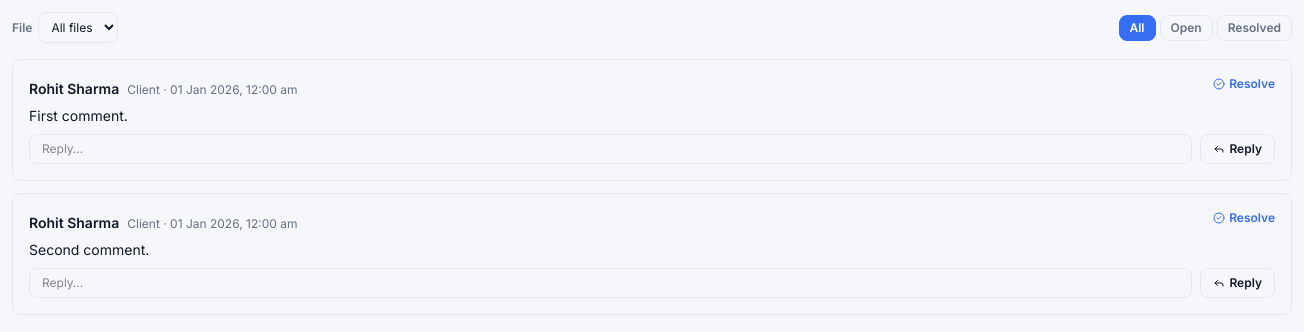
it: CommentsTab resolve › only resolves the targeted comment card when two OPEN cards are present
Click the 1st button "Resolve" at (1244, 84), box [1213,76,1275,92]
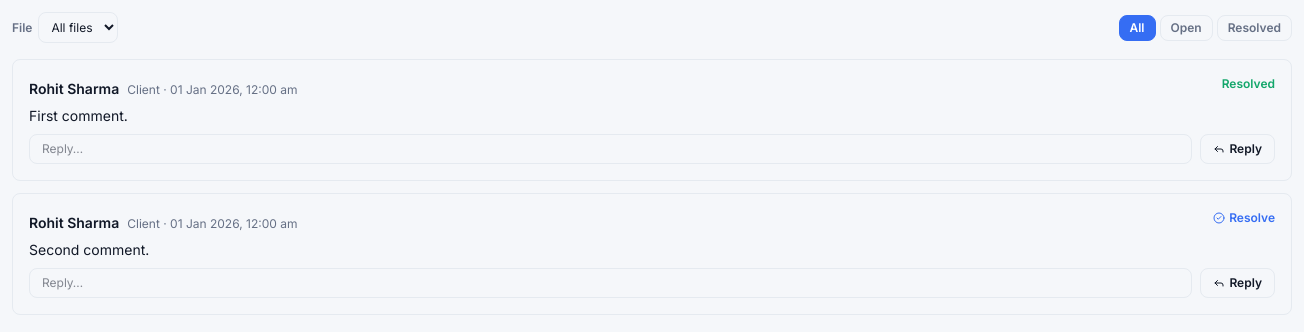
Expected: the button "Resolve" is shown, [1213,210,1275,226]
Result: the text "Resolved" is shown at [1222,76,1275,92]
